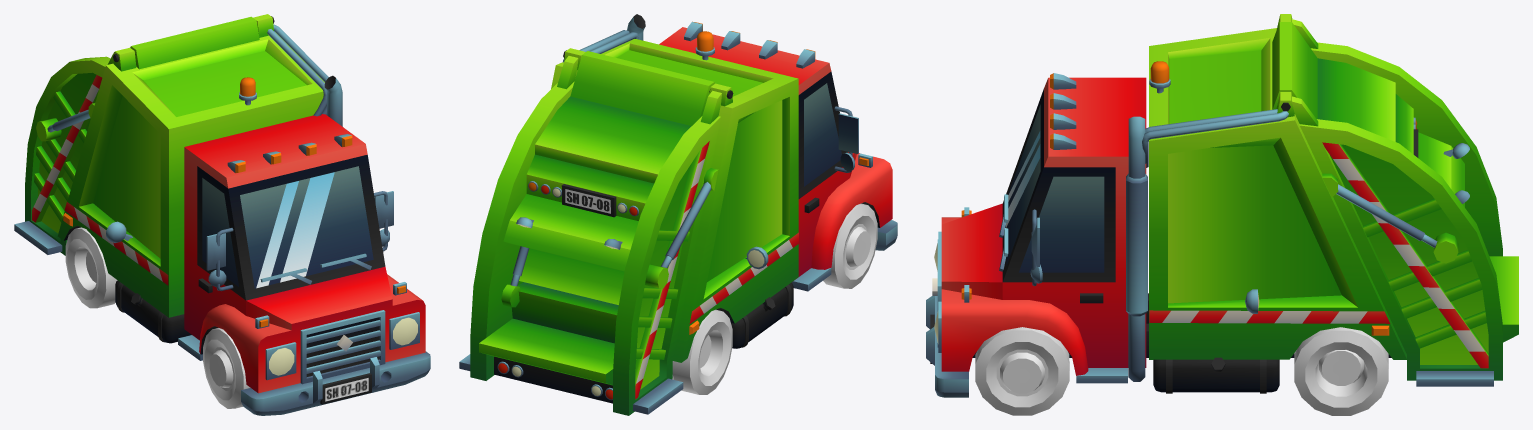
Rendered from Low Poly mak.fbx.
The picture shows the model from 3 angles, left to right: view 1: azimuth 30°, elevation 25°; view 2: azimuth 150°, elevation 25°; view 3: azimuth 270°, elevation 25°; orthographic projection. The views are drawn at different scales.
Parts seen in each view (by area): view 1: SHTV_Model_Car_GarbageTruck_SHTV_Material_Cars_White_0, SHTV_Model_Wheel_GarbageTruck_BR_SHTV_Material_Cars_Gray_0, SHTV_Model_Wheel_GarbageTruck_FR_SHTV_Material_Cars_Gray_0; view 2: SHTV_Model_Car_GarbageTruck_SHTV_Material_Cars_White_0, SHTV_Model_Wheel_GarbageTruck_BR_SHTV_Material_Cars_Gray_0, SHTV_Model_Wheel_GarbageTruck_FR_SHTV_Material_Cars_Gray_0; view 3: SHTV_Model_Car_GarbageTruck_SHTV_Material_Cars_White_0, SHTV_Model_Wheel_GarbageTruck_BL_SHTV_Material_Cars_Gray_0, SHTV_Model_Wheel_GarbageTruck_FL_SHTV_Material_Cars_Gray_0.
Part boxes in pixels (left/top/right/bottom): SHTV_Model_Car_GarbageTruck_SHTV_Material_Cars_White_0: left=14, top=14, right=430, bottom=415; SHTV_Model_Wheel_GarbageTruck_BR_SHTV_Material_Cars_Gray_0: left=65, top=227, right=117, bottom=308; SHTV_Model_Wheel_GarbageTruck_FR_SHTV_Material_Cars_Gray_0: left=203, top=328, right=250, bottom=408; SHTV_Model_Car_GarbageTruck_SHTV_Material_Cars_White_0: left=459, top=14, right=897, bottom=415; SHTV_Model_Wheel_GarbageTruck_BR_SHTV_Material_Cars_Gray_0: left=672, top=309, right=732, bottom=394; SHTV_Model_Wheel_GarbageTruck_FR_SHTV_Material_Cars_Gray_0: left=823, top=203, right=877, bottom=288; SHTV_Model_Car_GarbageTruck_SHTV_Material_Cars_White_0: left=926, top=14, right=1518, bottom=397; SHTV_Model_Wheel_GarbageTruck_BL_SHTV_Material_Cars_Gray_0: left=1294, top=327, right=1388, bottom=415; SHTV_Model_Wheel_GarbageTruck_FL_SHTV_Material_Cars_Gray_0: left=975, top=327, right=1069, bottom=415.
Size of the model in its own units: 2.38 by 3.07 by 5.28.
